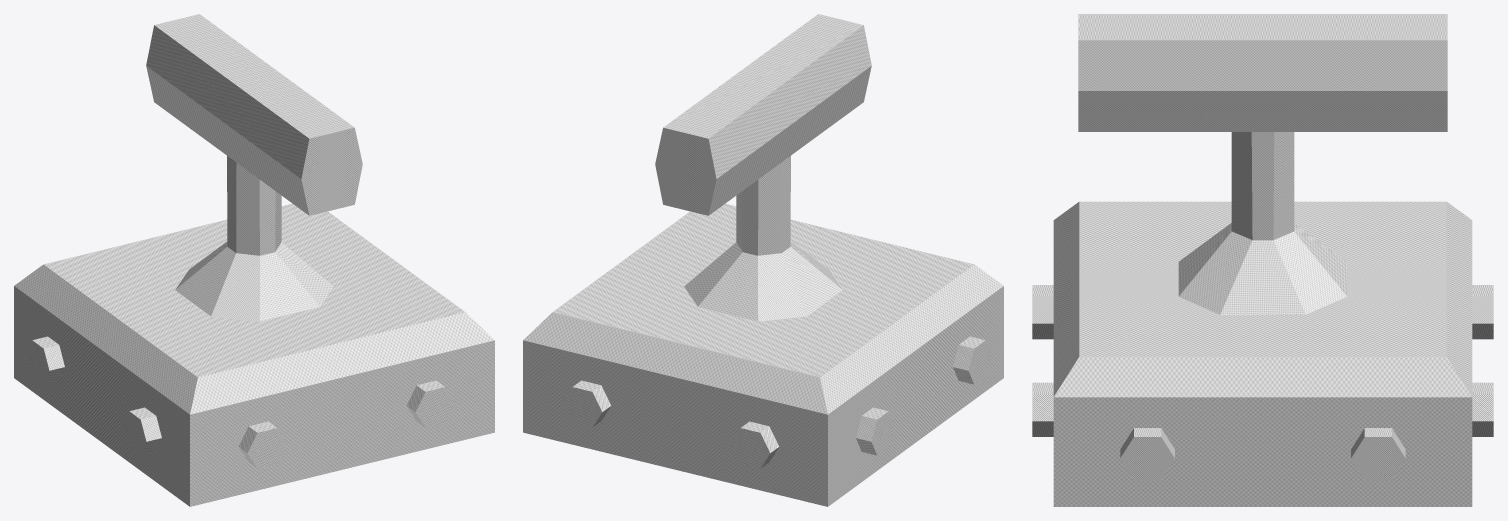
The model's file is Radar.dae.
The picture shows the model from 3 angles, left to right: view 1: azimuth 30°, elevation 25°; view 2: azimuth 150°, elevation 25°; view 3: azimuth 270°, elevation 25°; orthographic projection. The views are drawn at different scales.
Visible parts, largest first — view 1: Radar, RadarBar; view 2: Radar, RadarBar; view 3: Radar, RadarBar.
Part boxes in pixels (left/top/right/bottom): Radar: left=14, top=156, right=494, bottom=506; RadarBar: left=146, top=14, right=362, bottom=215; Radar: left=523, top=156, right=1003, bottom=506; RadarBar: left=655, top=14, right=871, bottom=215; Radar: left=1032, top=132, right=1493, bottom=506; RadarBar: left=1078, top=14, right=1447, bottom=131.
Size of the model in its own units: 2 by 1.87 by 2.
